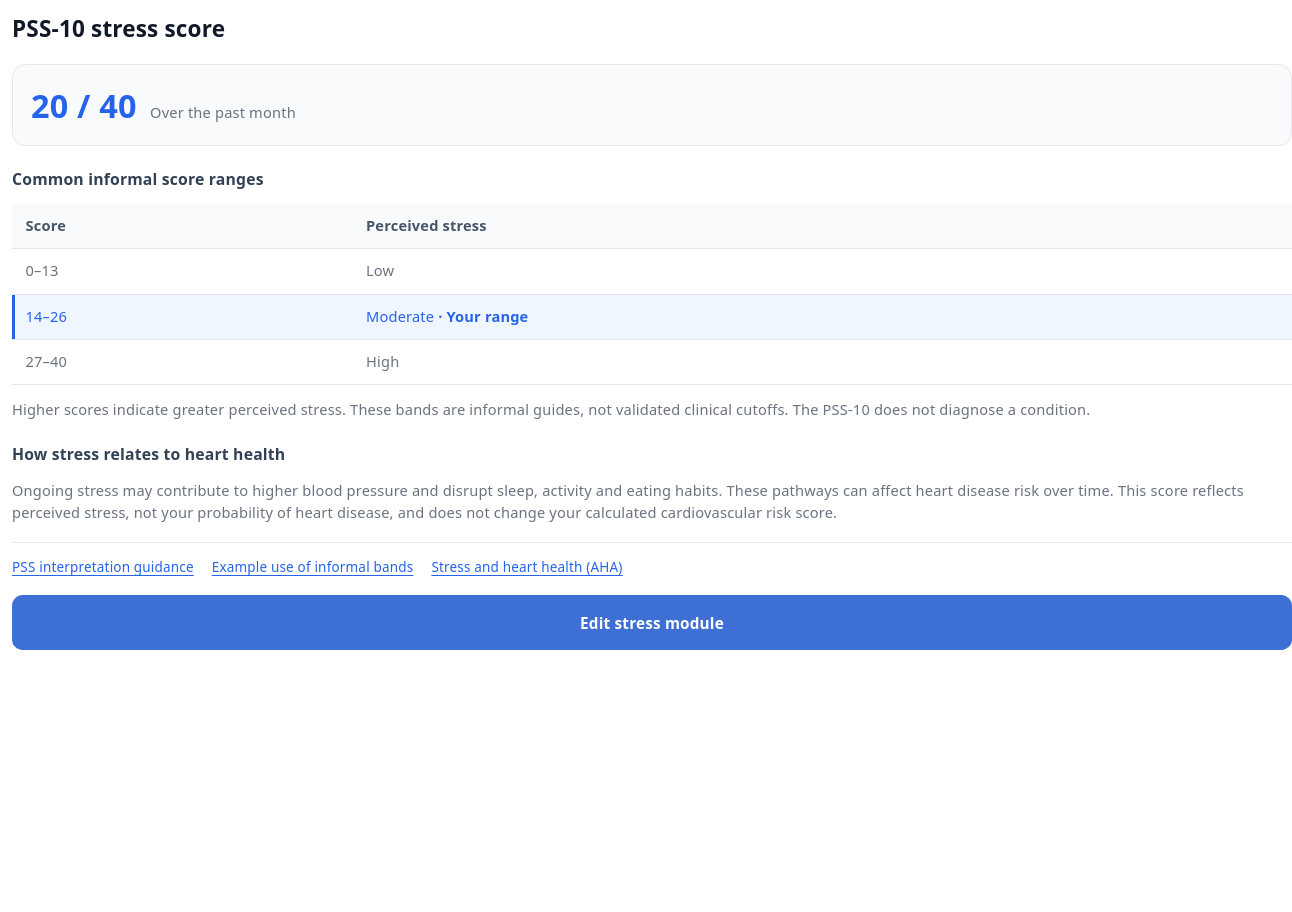
Test case: edits the selected assessment, retries a failed save, and reloads on return
Click the link "Edit stress module" at point(652, 623), box [12, 595, 1291, 650]
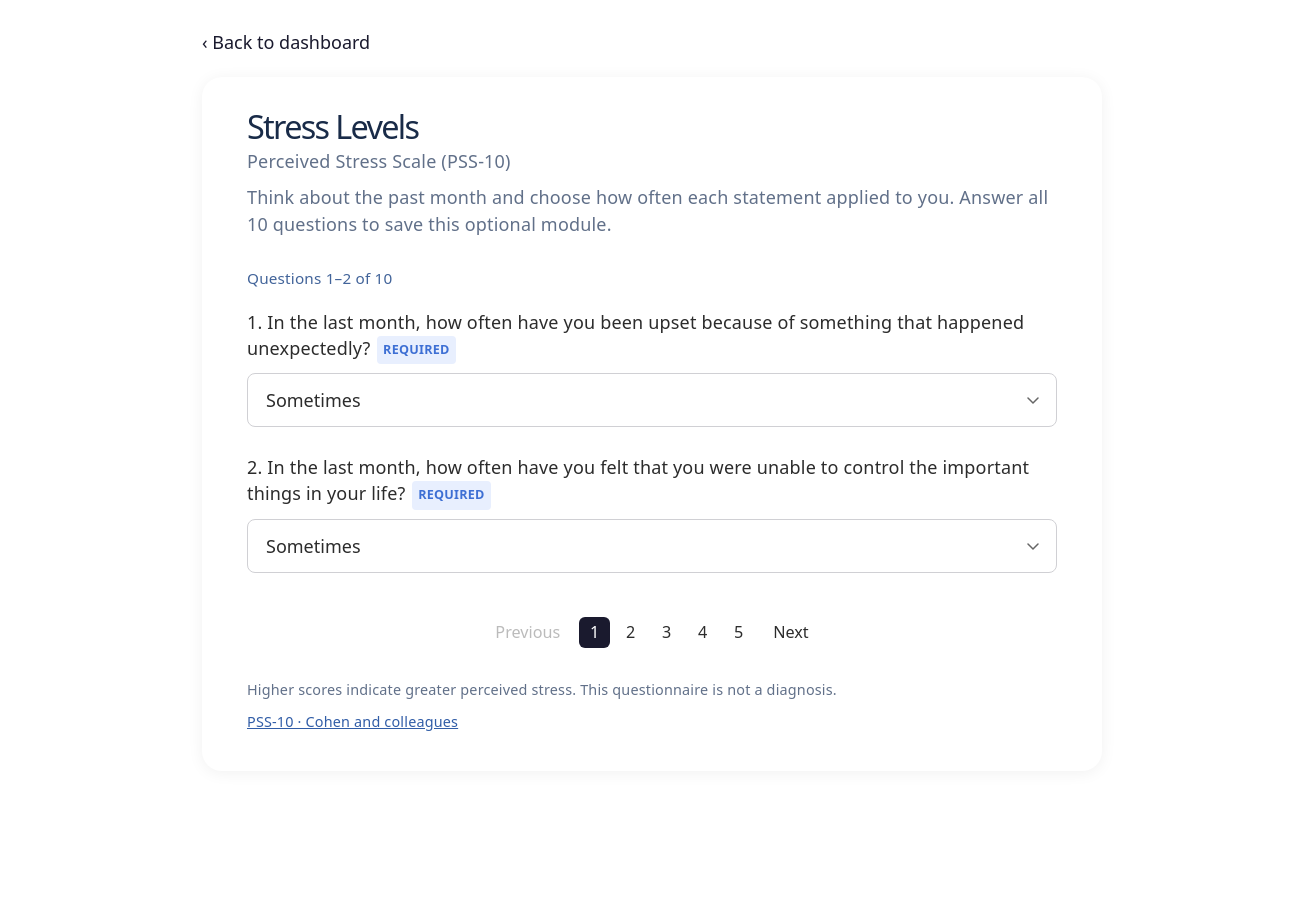
Check: the dropdown named "1. In the last month, how often have you been upset because" shows "Sometimes"
Select "Very often" in the dropdown named "1. In the last month, how often have you been upset because" at point(652, 400), box [247, 373, 1057, 427]
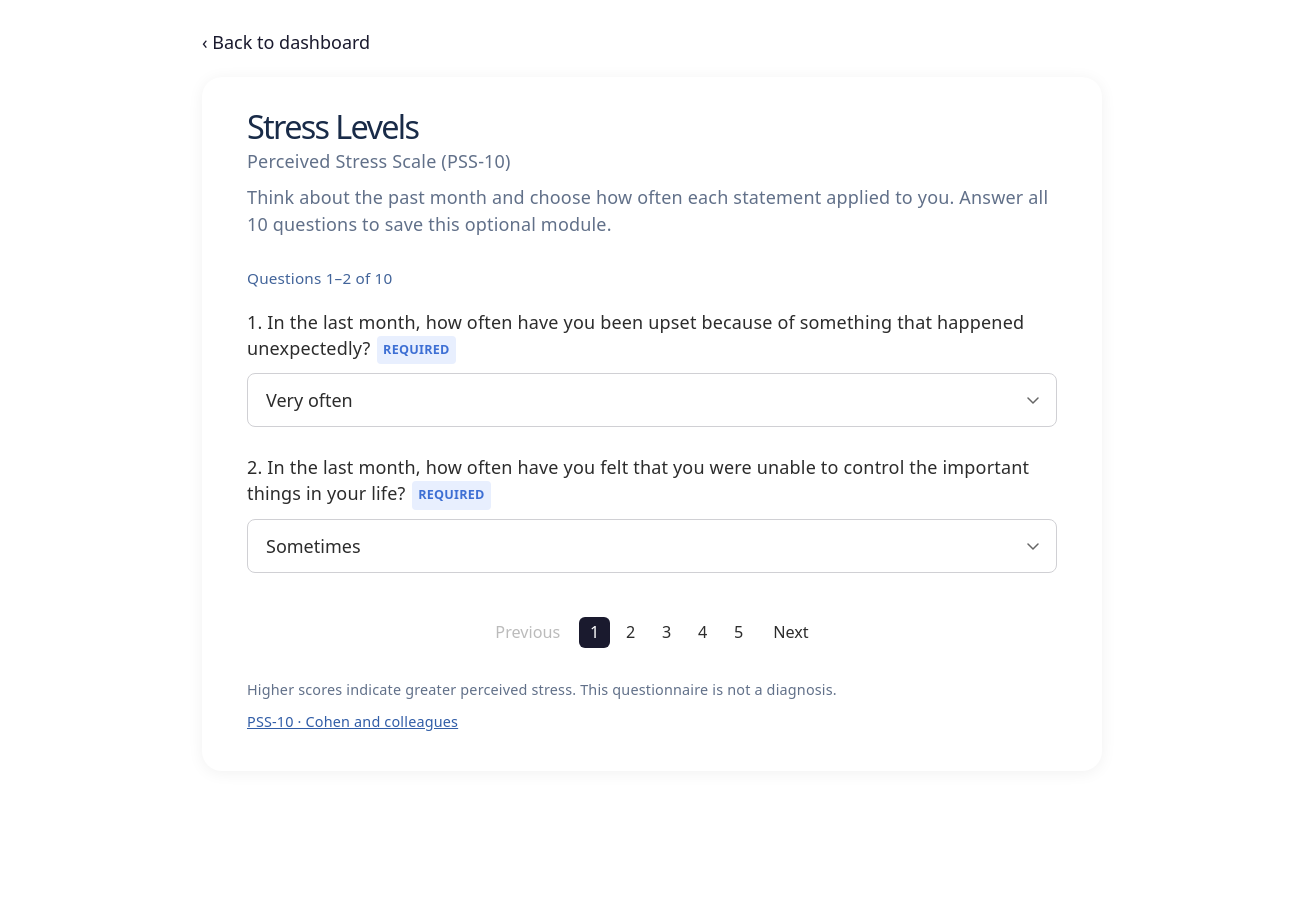
Click the button named "Page 5" at point(739, 632), box [723, 617, 754, 648]
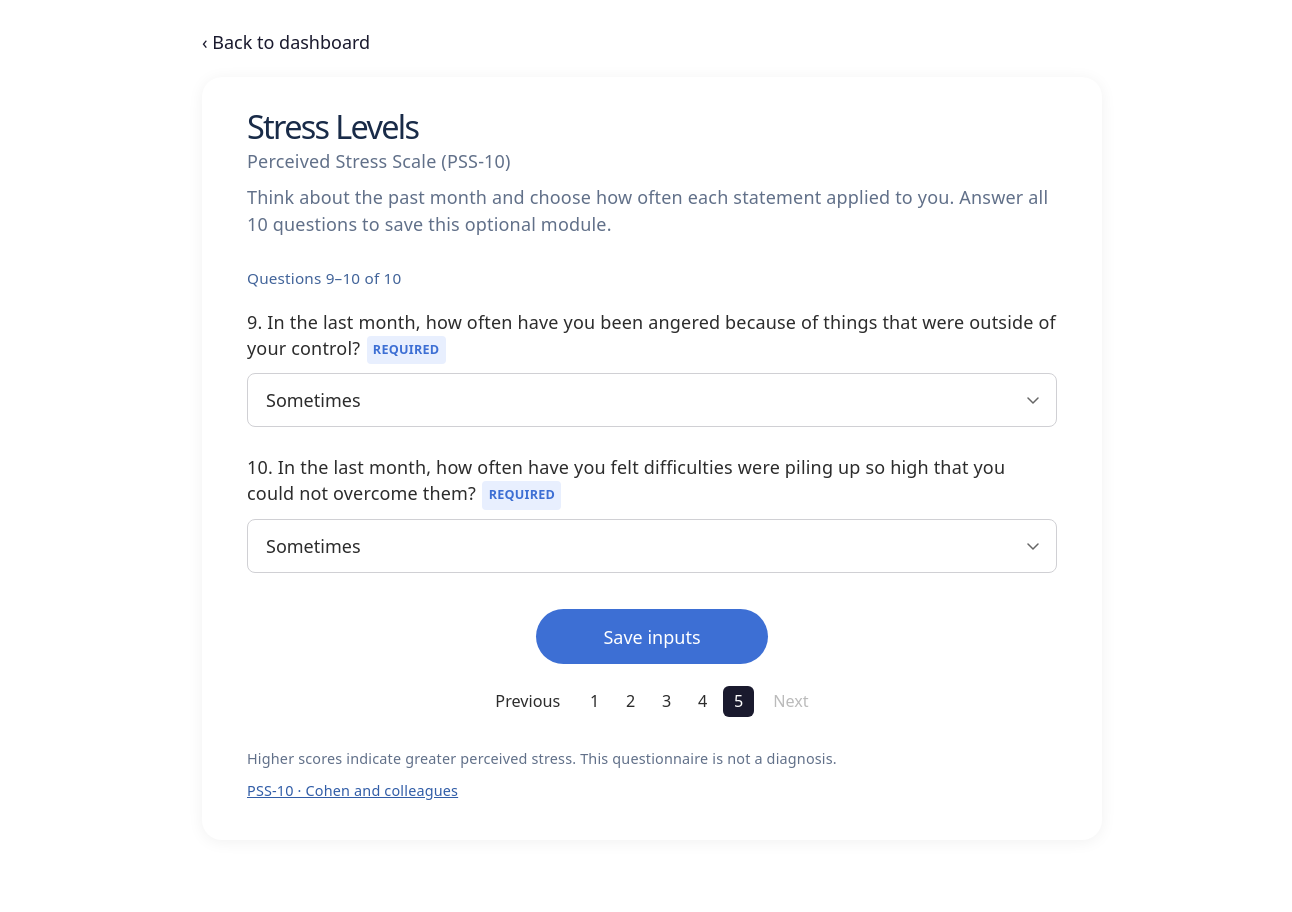
Click the button "Save inputs" at point(652, 637), box [536, 609, 768, 664]
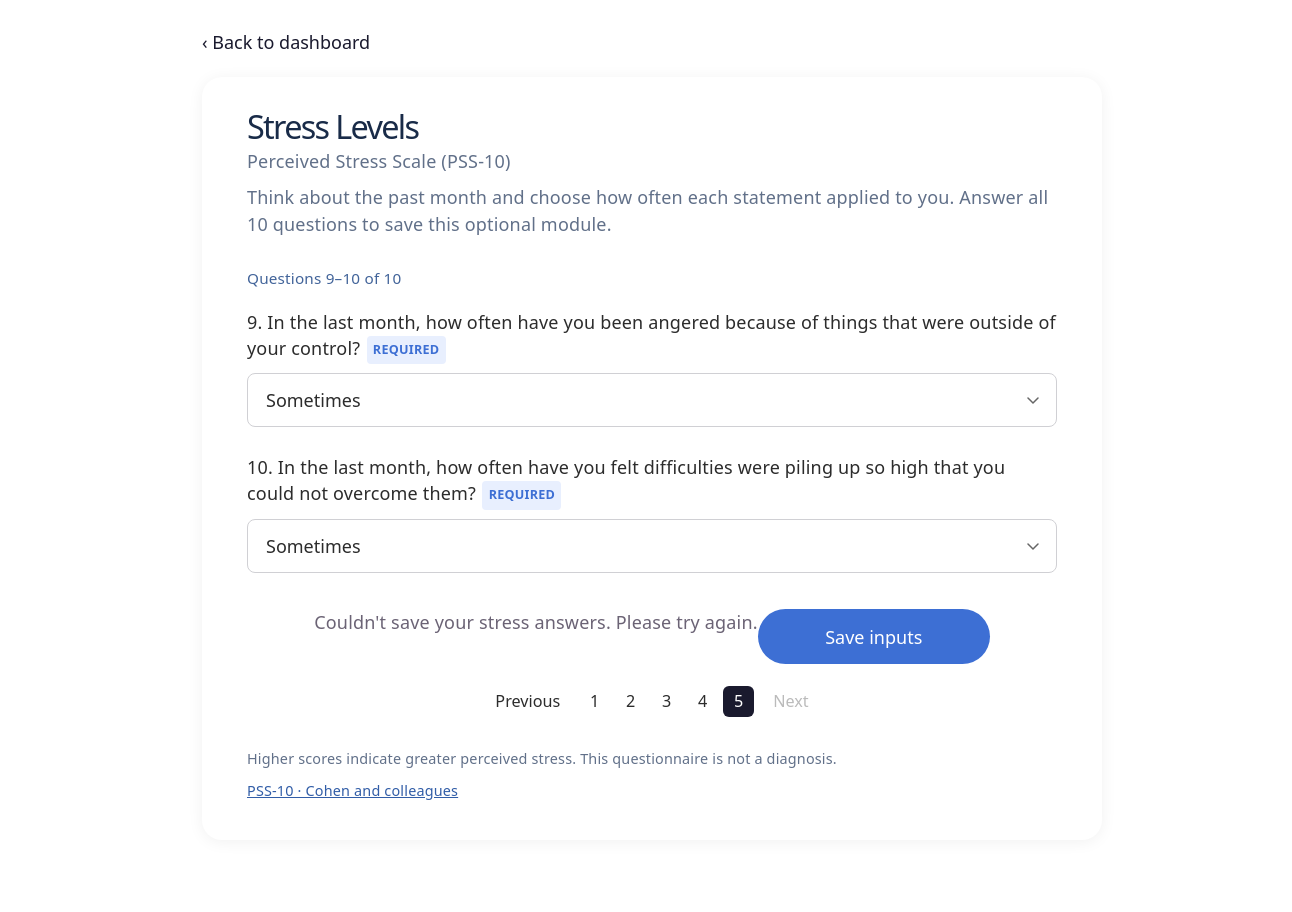
Check: the message shows "Couldn't save", box [314, 610, 758, 634]
Click the button "Save inputs" at point(874, 637), box [758, 609, 990, 664]
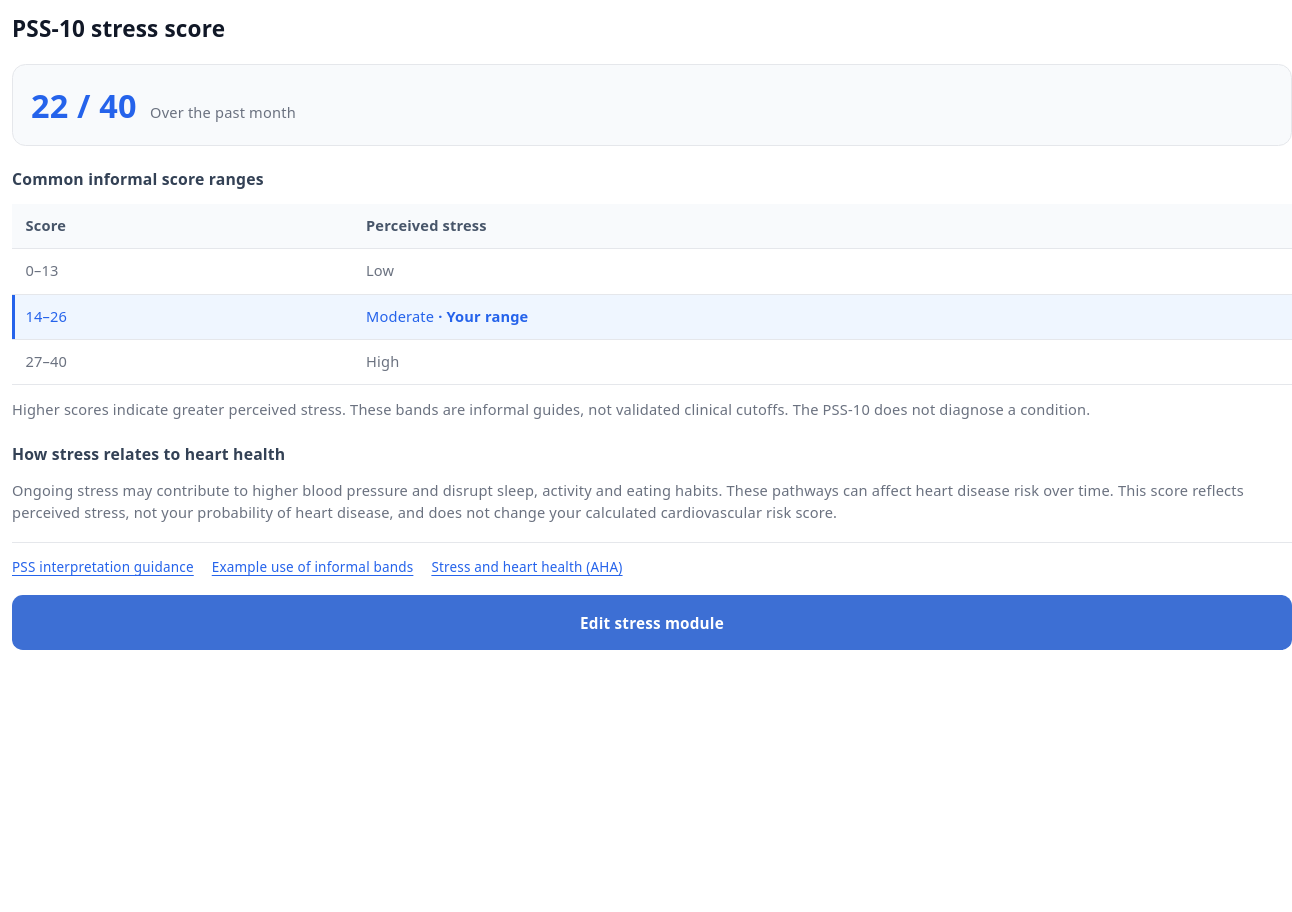
Check: the text "22 / 40" is shown, box [31, 80, 137, 129]
